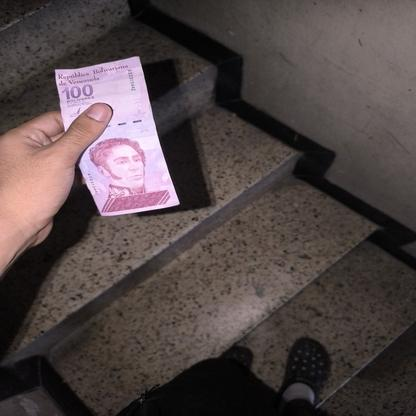one_hundred-front-vef: (54, 55, 180, 217)
